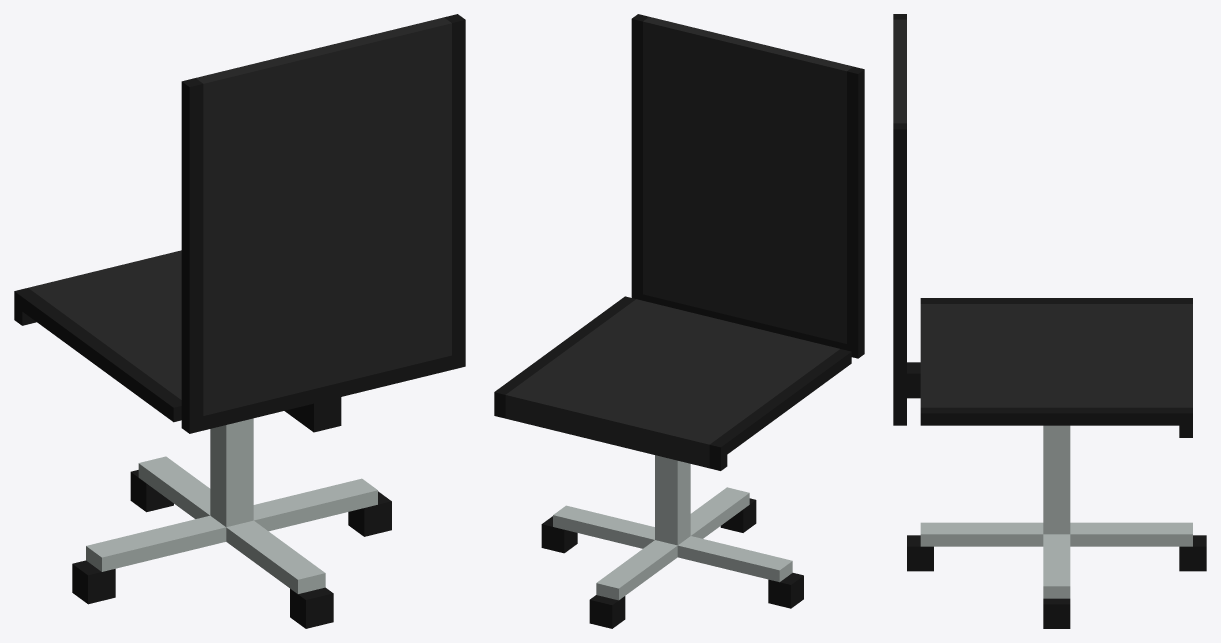
The model's file is chair_02.glb.
3 renders of one model, left to right at view 1: azimuth 30°, elevation 25°; view 2: azimuth 150°, elevation 25°; view 3: azimuth 270°, elevation 25°, orthographic. The views are drawn at different scales.
Parts seen in each view (by area): view 1: Untitled; view 2: Untitled; view 3: Untitled.
Boxes of the visible parts, left/top/right/bottom form: Untitled: left=14, top=14, right=465, bottom=628; Untitled: left=494, top=14, right=864, bottom=628; Untitled: left=893, top=14, right=1206, bottom=628.
Bounding box in the file's own units: 0.66 × 1.2 × 0.69.
Materials: 1 (1 with a texture image).
